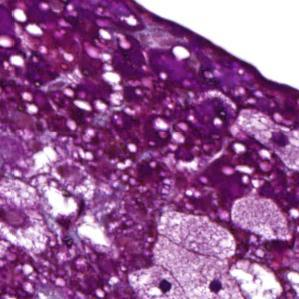ballooning: (4, 172, 81, 252)
